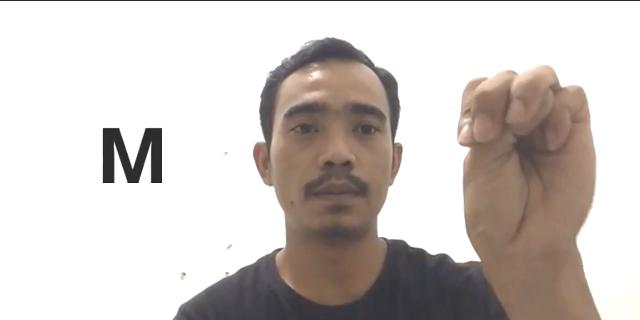M: (456, 61, 602, 259)
